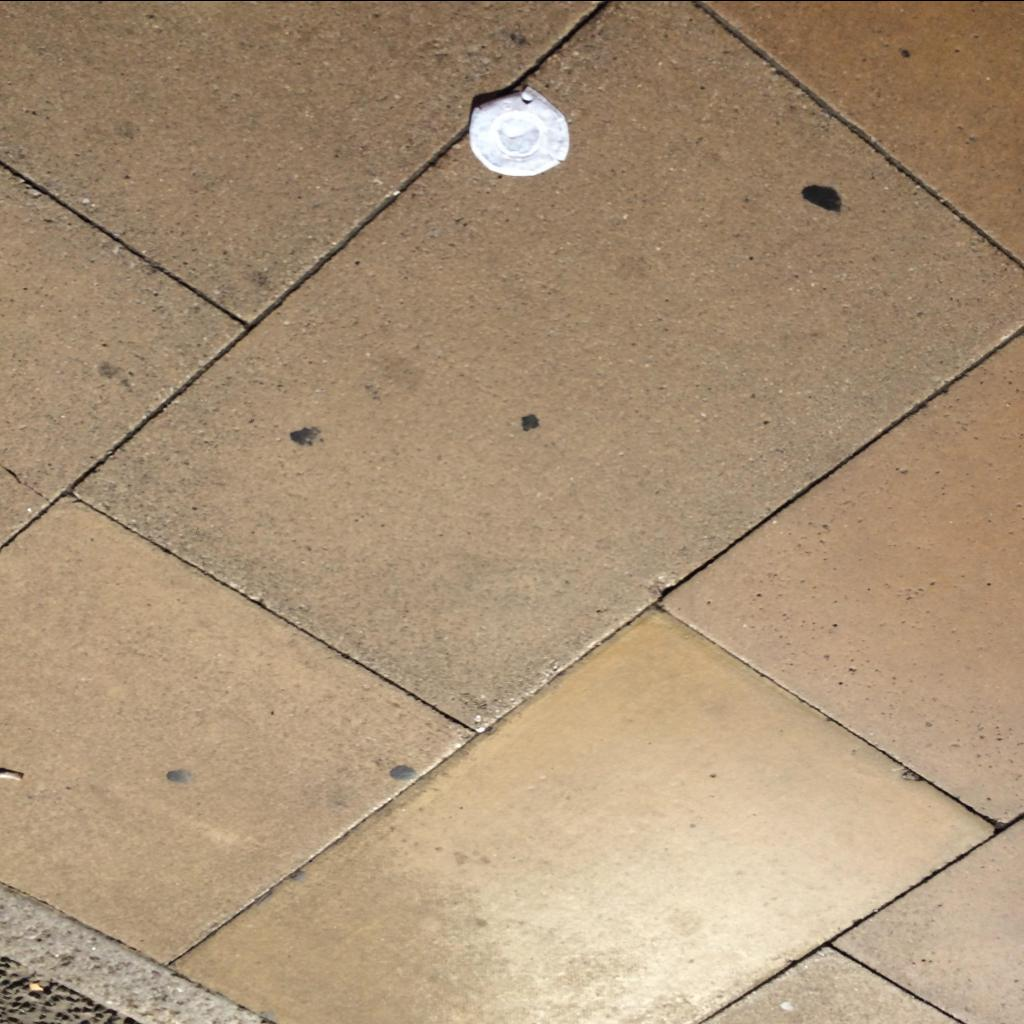Cigarette: (2, 768, 24, 780)
Plastic lid: (470, 85, 570, 175)
